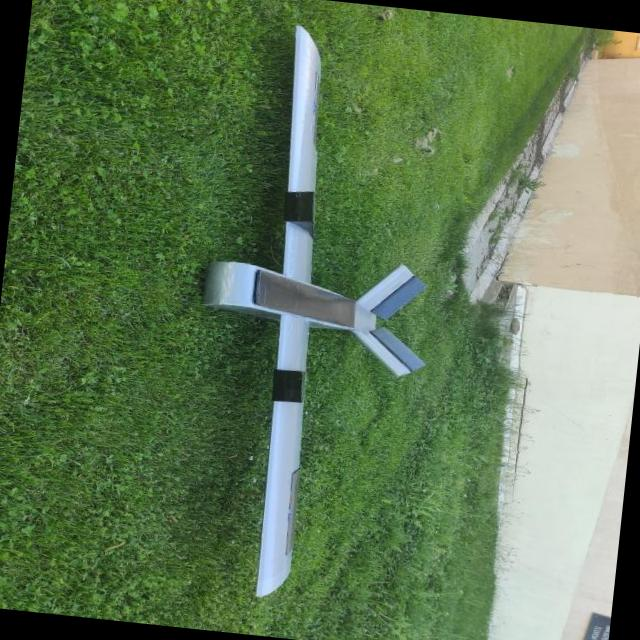UAV: (151, 10, 497, 632)
